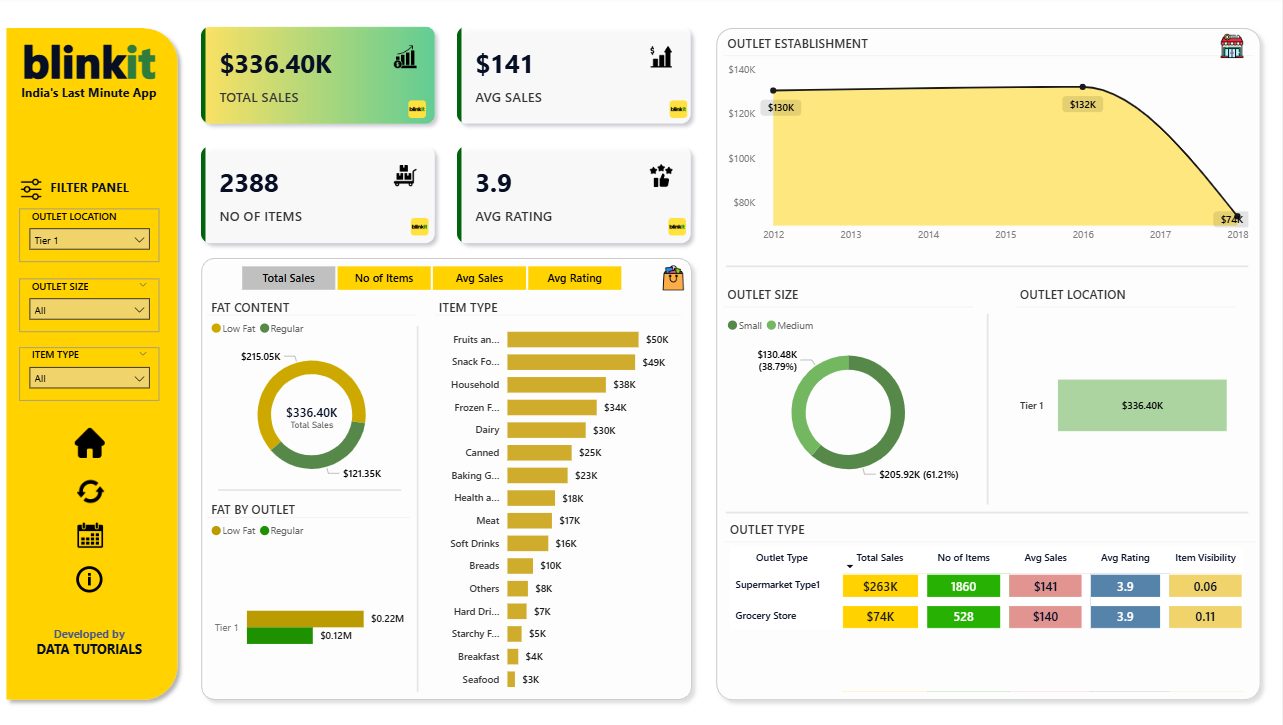

Layout of this report page (visuals, bound fields, positions):
{"tool":"powerbi","page":{"name":"Home","canvas":[1400,800],"ordinal":0},"visuals":[{"type":"shape","box":[0,25.3,205,750.7],"z":0},{"type":"textbox","box":[0,33,198.1,82.1],"z":1000},{"type":"cardVisual","fields":{"Data":["BlinkIT Grocery Data.Total Sum Sales","BlinkIT Grocery Data.Average Sales","BlinkIT Grocery Data.No of Items","BlinkIT Grocery Data.Avg Rating"]},"box":[204.8,15.8,569.7,270.8],"z":2000},{"type":"image","box":[71.4,466.3,58.7,42.6],"z":3000},{"type":"image","box":[74.4,521.1,52.1,39.7],"z":4000},{"type":"image","box":[81.8,568.8,38,39.1],"z":5000},{"type":"shape","box":[774.5,25.5,611.7,751.1],"z":6000},{"type":"areaChart","title":"OUTLET ESTABLISHMENT","fields":{"Y":["BlinkIT Grocery Data.Total Sum Sales"],"Category":["BlinkIT Grocery Data.Outlet Establishment Year2"]},"box":[790.6,42.5,578.3,234],"z":7000},{"type":"textbox","box":[0,89.6,198.1,34],"z":8000},{"type":"donutChart","title":"OUTLET SIZE","fields":{"Category":["BlinkIT Grocery Data.Outlet Size"],"Y":["BlinkIT Grocery Data.Total Sum Sales"]},"box":[790.6,316,273.6,224.5],"z":9000},{"type":"funnel","title":"OUTLET LOCATION","fields":{"Category":["BlinkIT Grocery Data.Outlet Location Type"],"Y":["BlinkIT Grocery Data.Total Sum Sales"]},"box":[1110.4,316,240.6,234],"z":10000},{"type":"pivotTable","title":"OUTLET TYPE","fields":{"Rows":["BlinkIT Grocery Data.Outlet Type"],"Values":["BlinkIT Grocery Data.Total Sum Sales","BlinkIT Grocery Data.No of Items","BlinkIT Grocery Data.Average Sales","BlinkIT Grocery Data.Avg Rating","Avg(BlinkIT Grocery Data.Item Visibility)"]},"box":[793.6,572.3,578.7,197.1],"z":11000},{"type":"shape","box":[793.4,284.9,570.8,19.8],"z":12000},{"type":"shape","box":[1064.2,346.2,29.2,208.5],"z":13000},{"type":"shape","box":[212.8,276.6,553.2,500],"z":14000},{"type":"donutChart","title":"FAT CONTENT","fields":{"Y":["BlinkIT Grocery Data.Total Sum Sales"],"Category":["BlinkIT Grocery Data.Item Fat Content"]},"box":[228.3,330.2,229.2,213.2],"z":15000},{"type":"shape","box":[793.4,553.8,570.8,19.8],"z":16000},{"type":"cardVisual","fields":{"Data":["BlinkIT Grocery Data.Total Sum Sales"]},"box":[291.9,428.1,102,54.5],"z":17000},{"type":"slicer","fields":{"Values":["Metric.Metric"]},"box":[240,287.5,464.2,39.6],"z":18000},{"type":"barChart","title":"ITEM TYPE","fields":{"Y":["BlinkIT Grocery Data.Total Sum Sales"],"Category":["BlinkIT Grocery Data.Item Type"]},"box":[475.3,330.2,269.8,438.1],"z":19000},{"type":"shape","box":[442.5,360.4,29.2,399.1],"z":20000},{"type":"clusteredBarChart","title":"FAT BY OUTLET","fields":{"Y":["BlinkIT Grocery Data.Total Sum Sales"],"Category":["BlinkIT Grocery Data.Outlet Location Type"],"Series":["BlinkIT Grocery Data.Item Fat Content"]},"box":[228.3,550.9,221.7,229.2],"z":21000},{"type":"shape","box":[239.6,529.2,200,19.8],"z":22000},{"type":"image","box":[725.5,108.5,33,29.2],"z":23000},{"type":"image","box":[723.6,237.7,33,29.2],"z":24000},{"type":"image","box":[442.5,237.7,33,29.2],"z":25000},{"type":"image","box":[440.6,108.5,33,29.2],"z":26000},{"type":"image","box":[715.6,289.2,41.3,36.9],"z":27000},{"type":"image","box":[1327.5,33.4,36,40.4],"z":28000},{"type":"slicer","fields":{"Values":["BlinkIT Grocery Data.Outlet Location Type"]},"box":[23.7,231.2,153,58],"z":29000},{"type":"slicer","fields":{"Values":["BlinkIT Grocery Data.Outlet Size"]},"box":[23.7,307.7,153,58],"z":30000},{"type":"slicer","fields":{"Values":["BlinkIT Grocery Data.Item Type"]},"box":[23.7,382.4,153,58],"z":31000},{"type":"textbox","box":[36.8,193.4,126.4,31.1],"z":32000},{"type":"image","box":[18.9,184,34.9,53.8],"z":33000},{"type":"textbox","box":[36.8,680.5,125.5,28.8],"z":34000},{"type":"textbox","box":[36.8,697.8,125.5,28.8],"z":35000},{"type":"actionButton","box":[80.6,616.6,38.5,39.7],"z":38000}]}

Visuals, with their boxes in screenshot pixels (x1, y1, x2, y2), scaled from the page's 1400x800 canvas onto the 1283x725 screenshot:
shape: (0,23,188,703)
textbox: (0,30,182,104)
cardVisual - BlinkIT Grocery Data.Total Sum Sales x BlinkIT Grocery Data.Average Sales: (188,14,710,260)
image: (65,423,119,461)
image: (68,472,116,508)
image: (75,515,110,551)
shape: (710,23,1270,704)
"OUTLET ESTABLISHMENT" areaChart: (725,39,1254,251)
textbox: (0,81,182,112)
"OUTLET SIZE" donutChart: (725,286,975,490)
"OUTLET LOCATION" funnel: (1018,286,1238,498)
"OUTLET TYPE" pivotTable: (727,519,1258,697)
shape: (727,258,1250,276)
shape: (975,314,1002,503)
shape: (195,251,702,704)
"FAT CONTENT" donutChart: (209,299,419,492)
shape: (727,502,1250,520)
cardVisual - BlinkIT Grocery Data.Total Sum Sales: (268,388,361,437)
slicer - Metric.Metric: (220,261,645,296)
"ITEM TYPE" barChart: (436,299,683,696)
shape: (406,327,432,688)
"FAT BY OUTLET" clusteredBarChart: (209,499,412,707)
shape: (220,480,403,498)
image: (665,98,695,125)
image: (663,215,693,242)
image: (406,215,436,242)
image: (404,98,434,125)
image: (656,262,694,296)
image: (1217,30,1250,67)
slicer - BlinkIT Grocery Data.Outlet Location Type: (22,210,162,262)
slicer - BlinkIT Grocery Data.Outlet Size: (22,279,162,331)
slicer - BlinkIT Grocery Data.Item Type: (22,347,162,399)
textbox: (34,175,150,203)
image: (17,167,49,216)
textbox: (34,617,149,643)
textbox: (34,632,149,658)
actionButton: (74,559,109,595)
